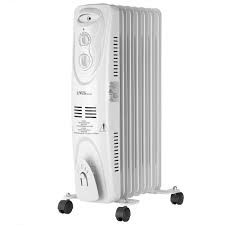Radiator: (57, 4, 185, 223)
